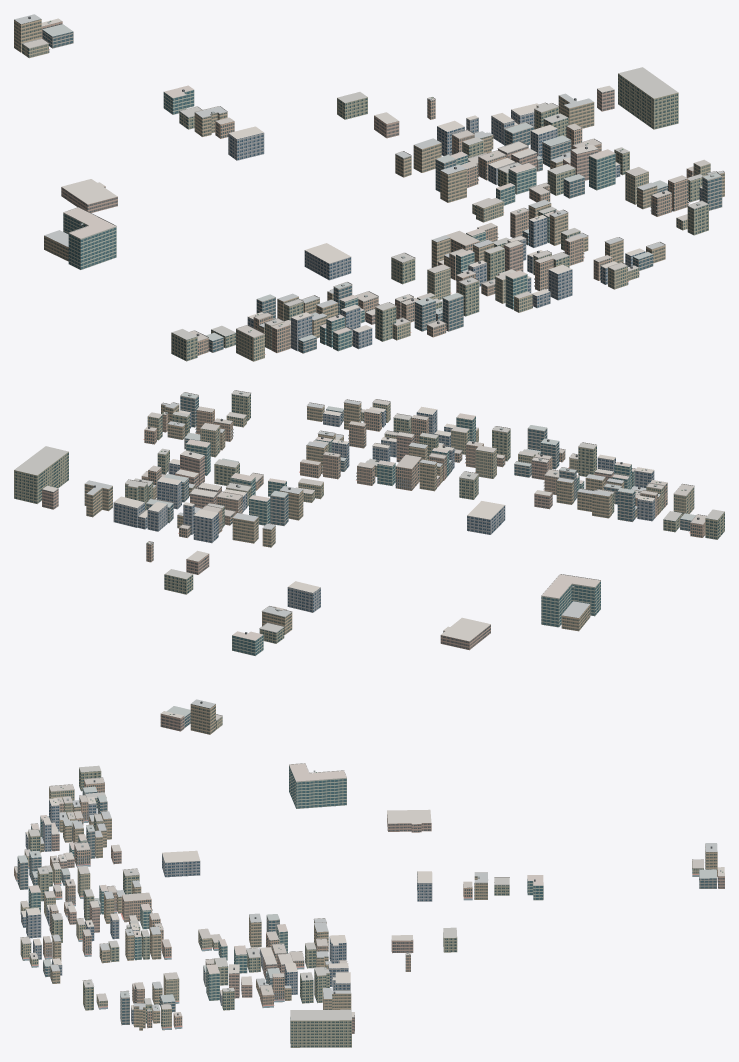
The picture shows the model from 3 angles, top to bottom: view 1: azimuth 30°, elevation 25°; view 2: azimuth 150°, elevation 25°; view 3: azimuth 270°, elevation 25°; orthographic projection. The views are drawn at different scales.
Visible parts, largest first — view 1: Station 3 surrounding real OSM building footprints; view 2: Station 3 surrounding real OSM building footprints; view 3: Station 3 surrounding real OSM building footprints.
Part boxes in pixels (bbox=[...]): Station 3 surrounding real OSM building footprints: bbox=[14, 14, 724, 361]; Station 3 surrounding real OSM building footprints: bbox=[14, 390, 724, 734]; Station 3 surrounding real OSM building footprints: bbox=[14, 763, 724, 1047].
Size of the model in its own units: 597 by 29.81 by 681.
25 materials, 8 textured.
